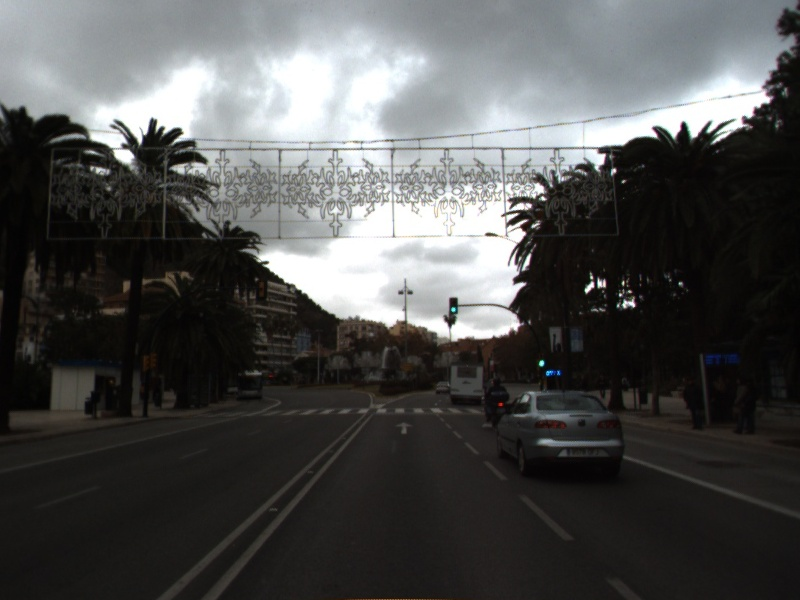STRAIGHT: (393, 419, 415, 436)
